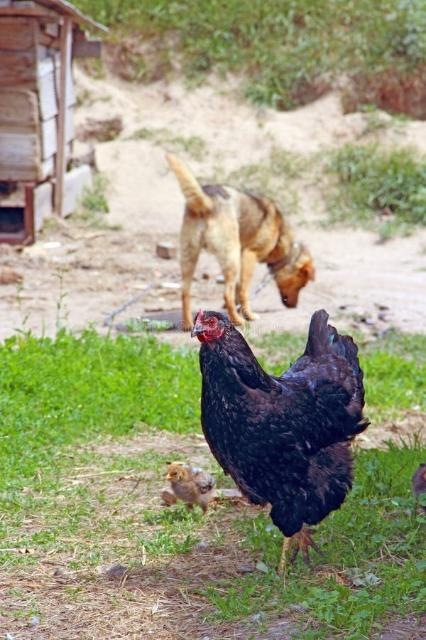Chicken: (192, 306, 370, 570)
